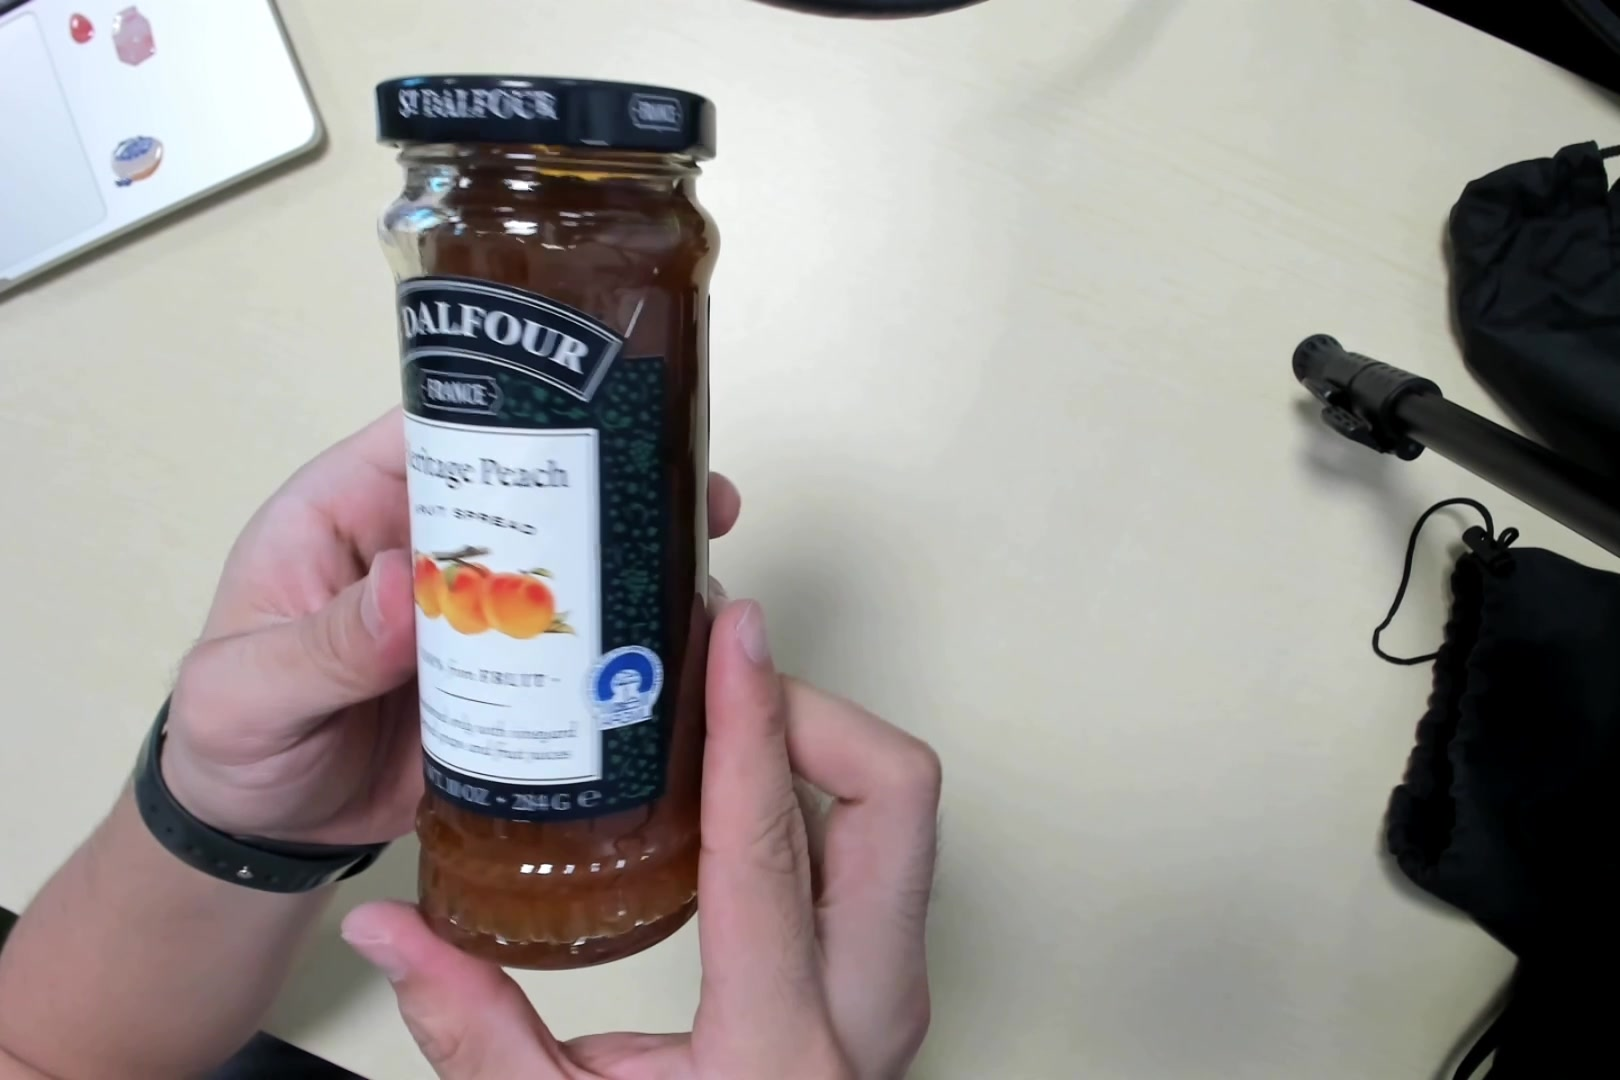Jam_200-299g_Halal_Healthy: (371, 63, 722, 969)
